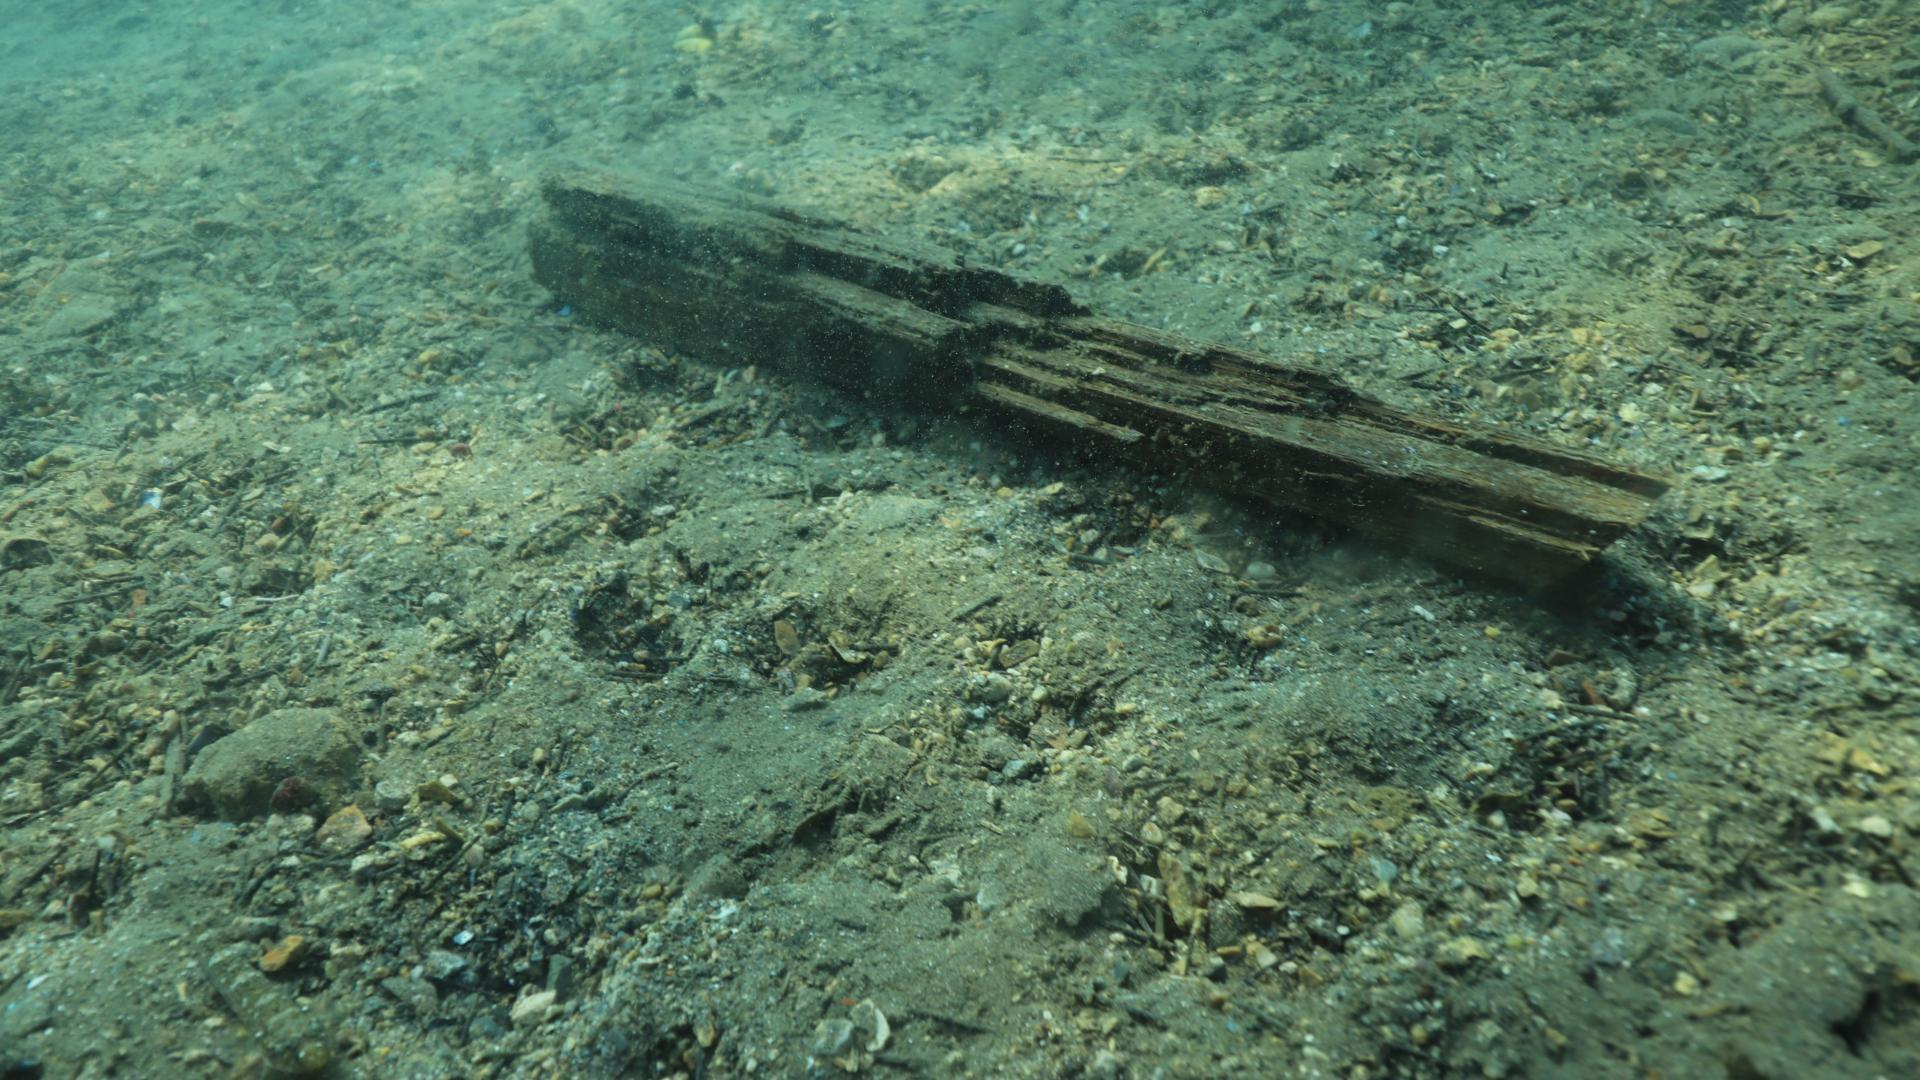wood: (525, 158, 1671, 588)
